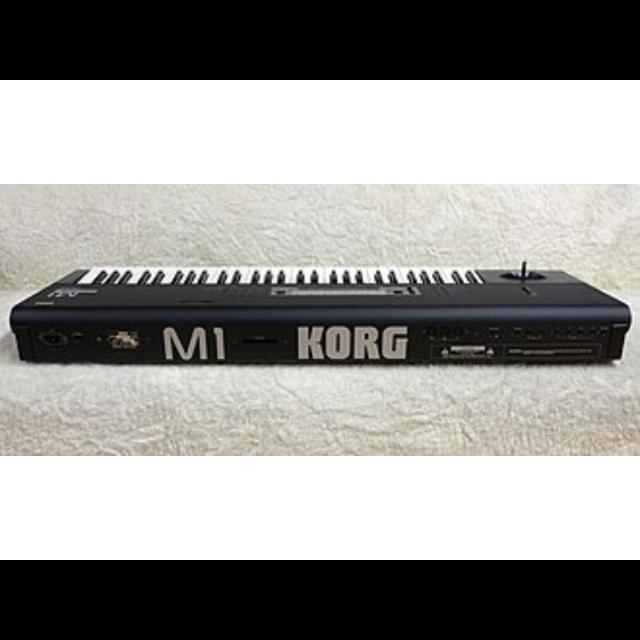Electronic-Keyboard: (11, 242, 631, 380)
